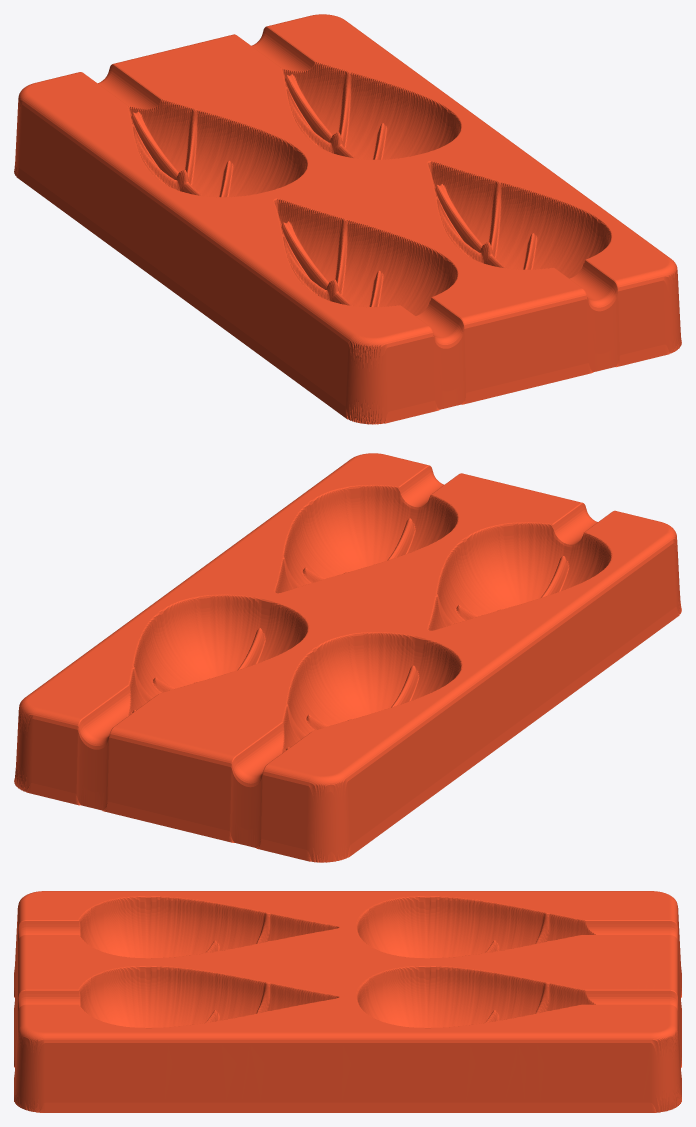
File: mold.glb
The picture shows the model from 3 angles, top to bottom: view 1: azimuth 30°, elevation 25°; view 2: azimuth 150°, elevation 25°; view 3: azimuth 270°, elevation 25°; orthographic projection. The views are drawn at different scales.
Visible parts, largest first — view 1: geometry_0; view 2: geometry_0; view 3: geometry_0.
Part boxes in pixels (box(x1,y1,x2,y2)): geometry_0: box(14, 14, 681, 424); geometry_0: box(14, 453, 681, 862); geometry_0: box(14, 891, 681, 1112).
Bounding box in the file's own units: 0.1053 × 0.0245 × 0.1968.
